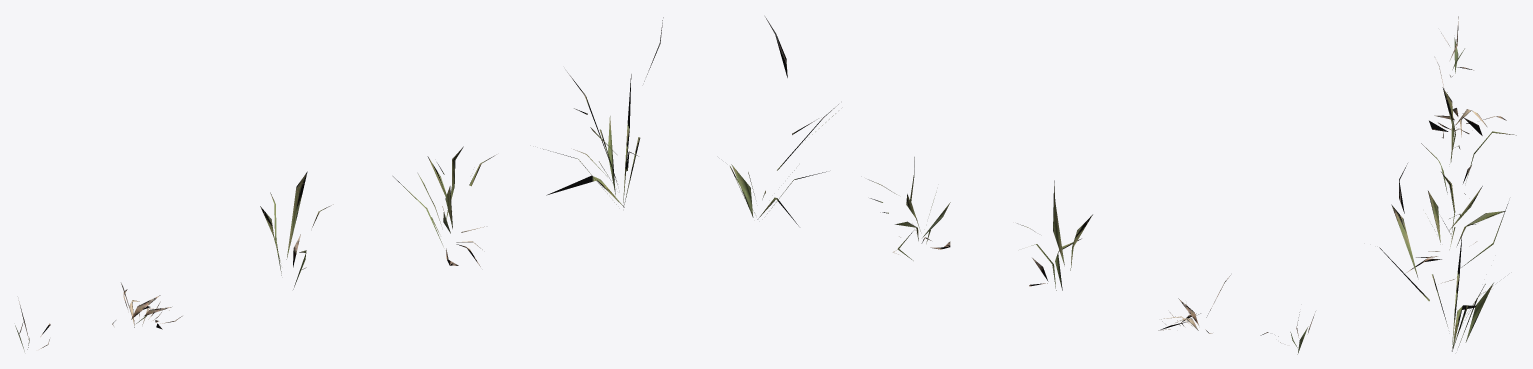
The model's file is grass_medium_02.glb.
3 renders of one model, left to right at view 1: azimuth 30°, elevation 25°; view 2: azimuth 150°, elevation 25°; view 3: azimuth 270°, elevation 25°, orthographic. The views are drawn at different scales.
Parts seen in each view (by area): view 1: grass_medium_02_e, grass_medium_02_d, grass_medium_02_c, grass_medium_02_b; view 2: grass_medium_02_e, grass_medium_02_c, grass_medium_02_d; view 3: grass_medium_02_e, grass_medium_02_d, grass_medium_02_b, grass_medium_02_c, grass_medium_02_a.
Part boxes in pixels (box(x1,y1,x2,y2)): grass_medium_02_e: box(543, 17, 663, 207); grass_medium_02_d: box(393, 146, 496, 266); grass_medium_02_c: box(260, 171, 333, 289); grass_medium_02_b: box(112, 283, 182, 329); grass_medium_02_e: box(730, 17, 838, 225); grass_medium_02_c: box(1017, 180, 1092, 290); grass_medium_02_d: box(868, 157, 950, 260); grass_medium_02_e: box(1379, 163, 1493, 351); grass_medium_02_d: box(1405, 172, 1508, 283); grass_medium_02_b: box(1429, 62, 1506, 138); grass_medium_02_c: box(1421, 87, 1516, 198); grass_medium_02_a: box(1441, 16, 1473, 77).
Bounding box in the file's own units: 1.21 × 0.376 × 0.2933.
Materials: 1 (1 with a texture image).
